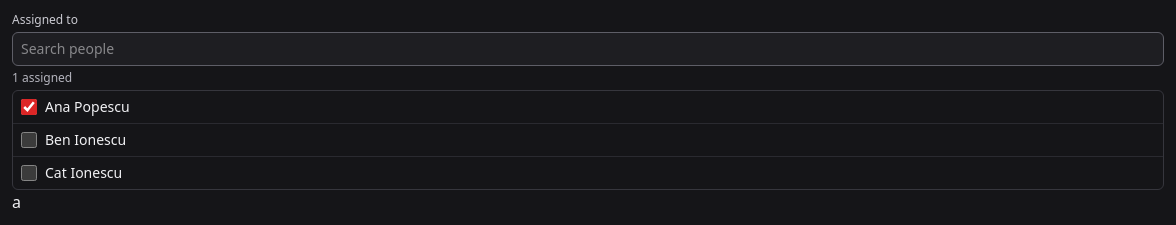
AssigneePicker › narrows by every word typed, keeps ticked people ticked while hidden, and never submits the form on Enter
Type "ionescu ben" into the search field labelled "Search people" at (588, 49), box [12,32,1164,66]
Then press Enter
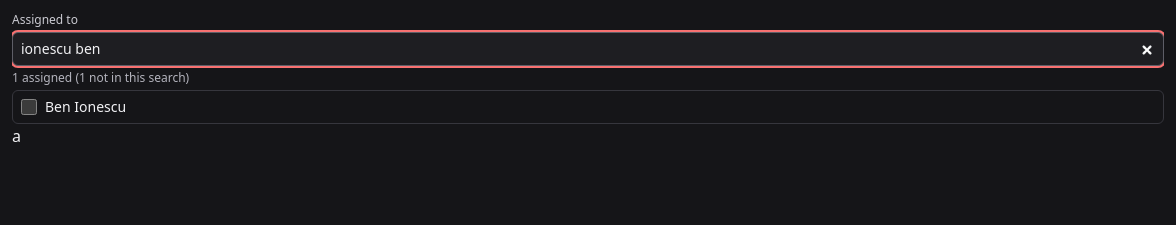
Expected: the text with test id "value" reads "a", [12,125,21,147]
Expected: the number of checkboxes is 1, [21,99,37,115]
Expected: the text "1 assigned (1 not in this search)" is shown, [12,69,189,86]
